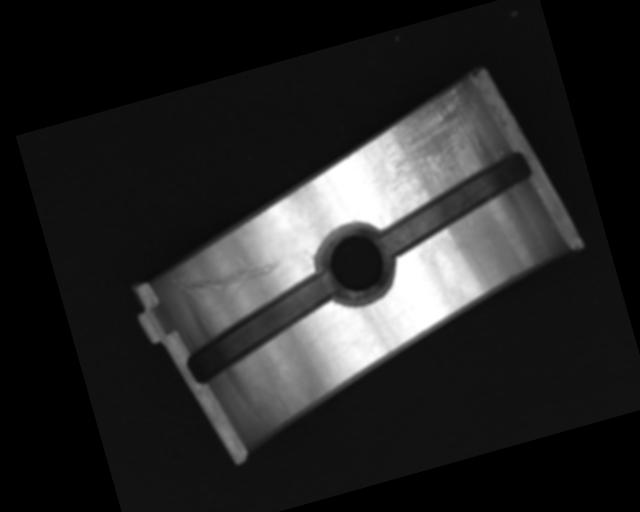gap: (172, 267, 349, 386), (365, 149, 543, 256)
hole: (310, 217, 401, 311)
nick: (166, 245, 288, 320)
scratch: (370, 77, 499, 204)
